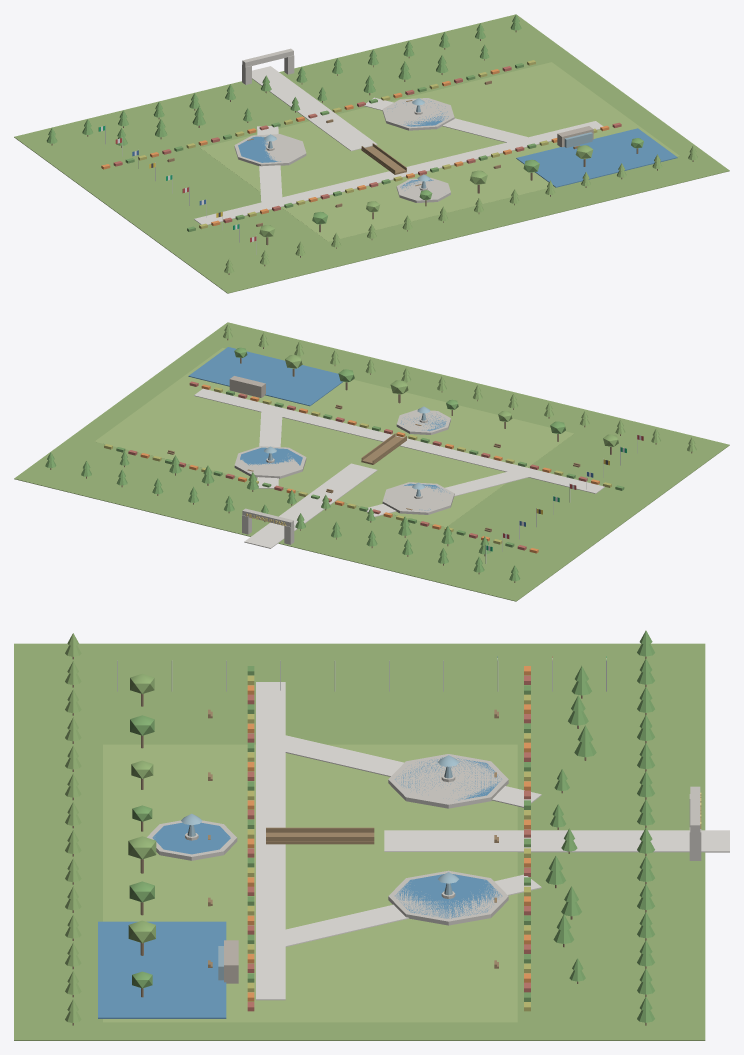
The model's file is millennium_park.glb.
3 views of the same model, one above another, from view 1: azimuth 30°, elevation 25°; view 2: azimuth 150°, elevation 25°; view 3: azimuth 270°, elevation 25° (orthographic). The views are drawn at different scales.
Parts seen in each view (by area): view 1: BLD_millennium_park; view 2: BLD_millennium_park; view 3: BLD_millennium_park.
Boxes of the visible parts, box(x1,y1,x2,y2) form: BLD_millennium_park: box(14, 14, 729, 293); BLD_millennium_park: box(14, 322, 729, 601); BLD_millennium_park: box(14, 630, 729, 1040).
Size of the model in its own units: 190 by 8.43 by 145.
